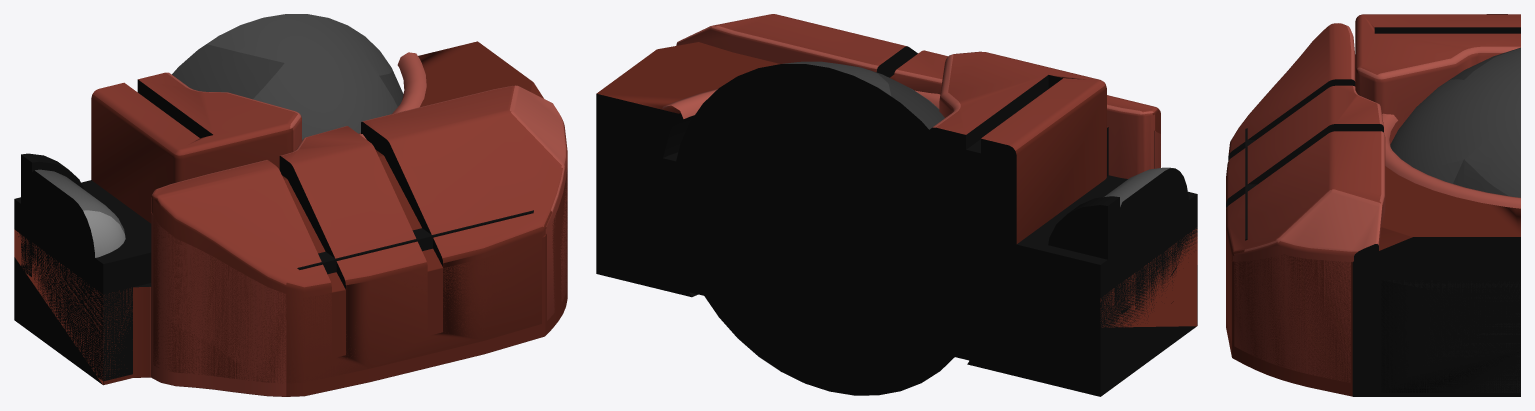
Rendered from deli_boss_45.glb.
3 views of the same model, side by side, from view 1: azimuth 30°, elevation 25°; view 2: azimuth 150°, elevation 25°; view 3: azimuth 270°, elevation 25° (orthographic). The views are drawn at different scales.
Visible parts, largest first — view 1: deli_boss_45; view 2: deli_boss_45; view 3: deli_boss_45.
Boxes of the visible parts, box(x1,y1,x2,y2) form: deli_boss_45: box(14, 14, 567, 396); deli_boss_45: box(596, 14, 1197, 396); deli_boss_45: box(1226, 14, 1520, 396).
Bounding box in the file's own units: 24 × 14.72 × 13.7.
